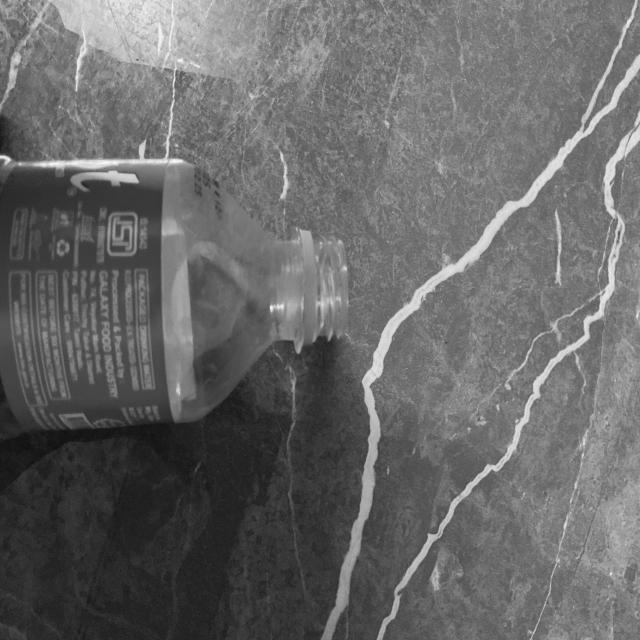open-cap: (297, 223, 348, 348)
